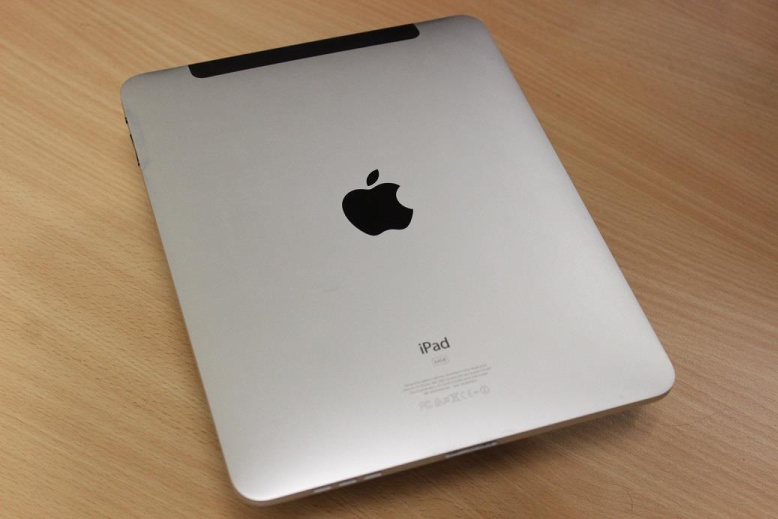apple: (336, 155, 419, 250)
